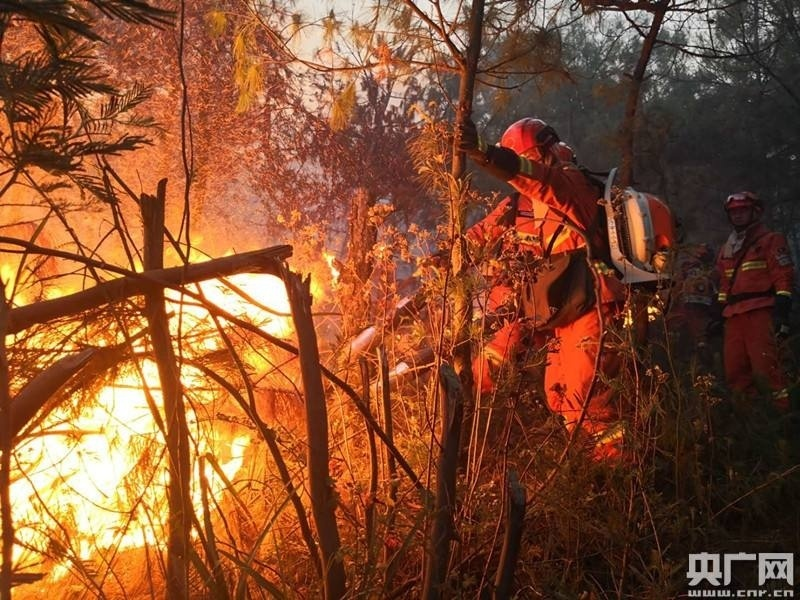fire: (2, 221, 312, 579)
